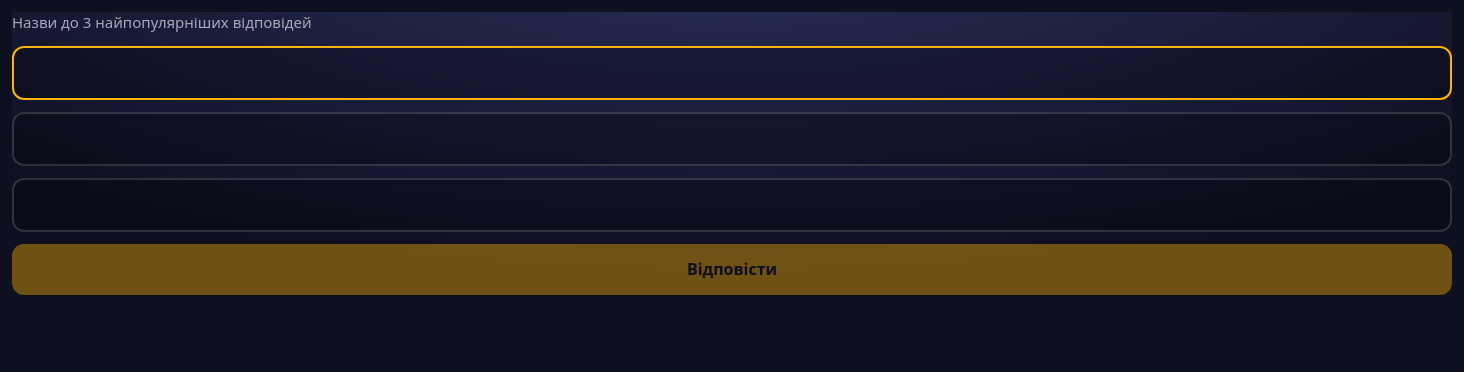
Test case: SurveyInput › flags repeats ignoring case and spaces
Step 1. Type "Яблуко" into the field named "Відповідь 1" → (732, 73), box [12,46,1452,100]
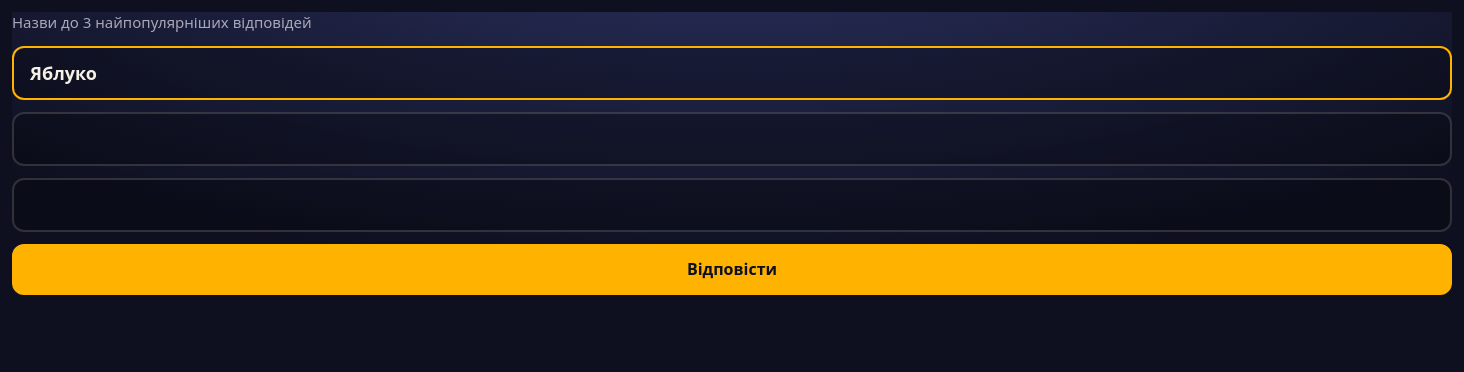
Expected: the text "Ця відповідь уже є" is not shown
Step 2. Type " яблуко " into the field named "Відповідь 2" → (732, 139), box [12,112,1452,166]
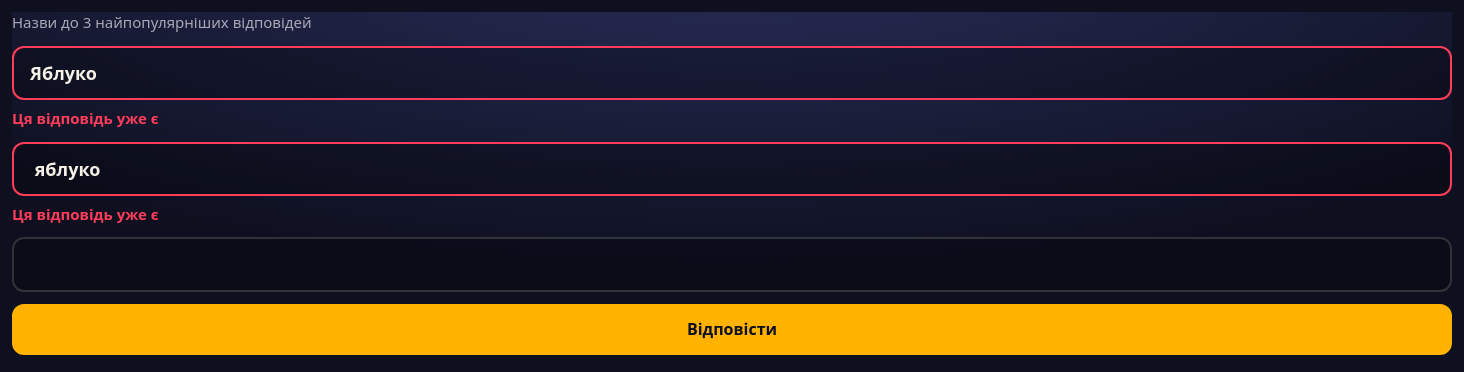
Now the text "Ця відповідь уже є" is shown 2 times, box [12,108,159,128]; [12,204,159,224]
